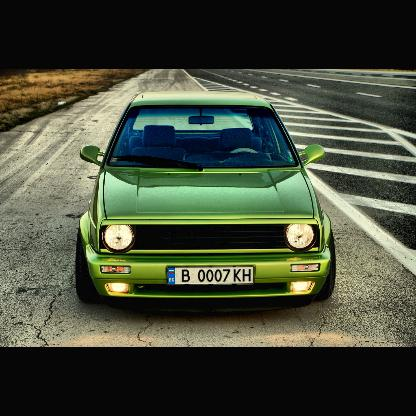Volkswagen Golf Hatchback 1991: (76, 93, 338, 314)
